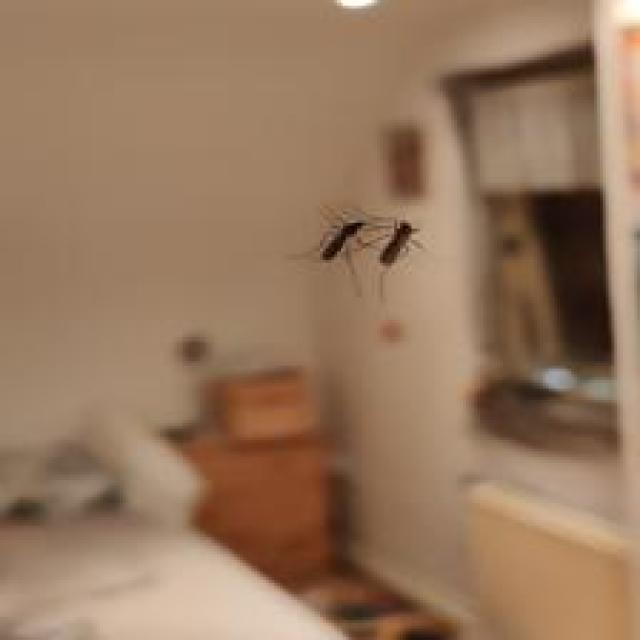Culex: (291, 206, 426, 300)
